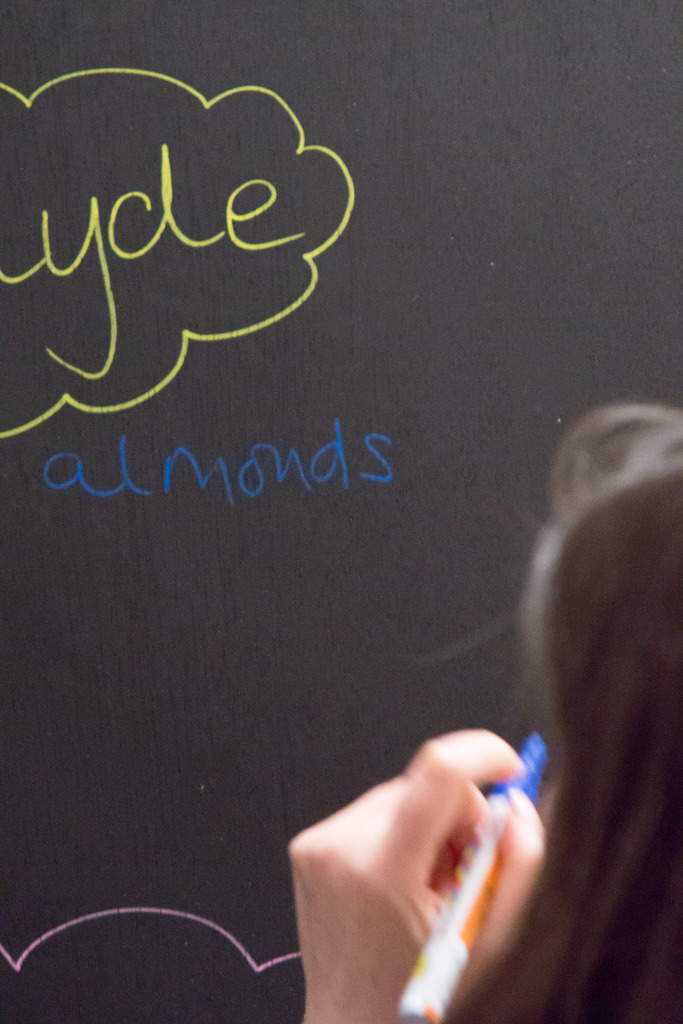Person: (282, 399, 682, 1023)
